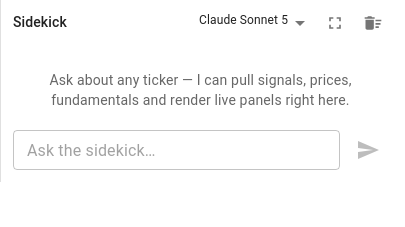
it: ChatRail › renders the user message and grows assistant text incrementally
In the text box with placeholder "Ask the sidekick…": coordinates (176, 150) left=27, top=138, right=326, bottom=162, type "How is INTC?"
Then press Enter
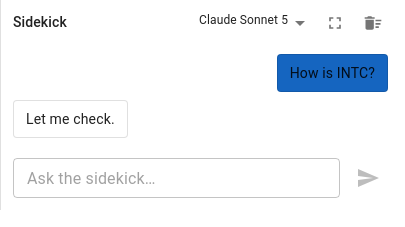
Expected: the text box with placeholder "Ask the sidekick…" is enabled, left=27, top=166, right=326, bottom=190
Now the text "How is INTC?" is shown, box left=290, top=63, right=375, bottom=83
Now the text "Let me check." is shown, box left=26, top=109, right=115, bottom=129
